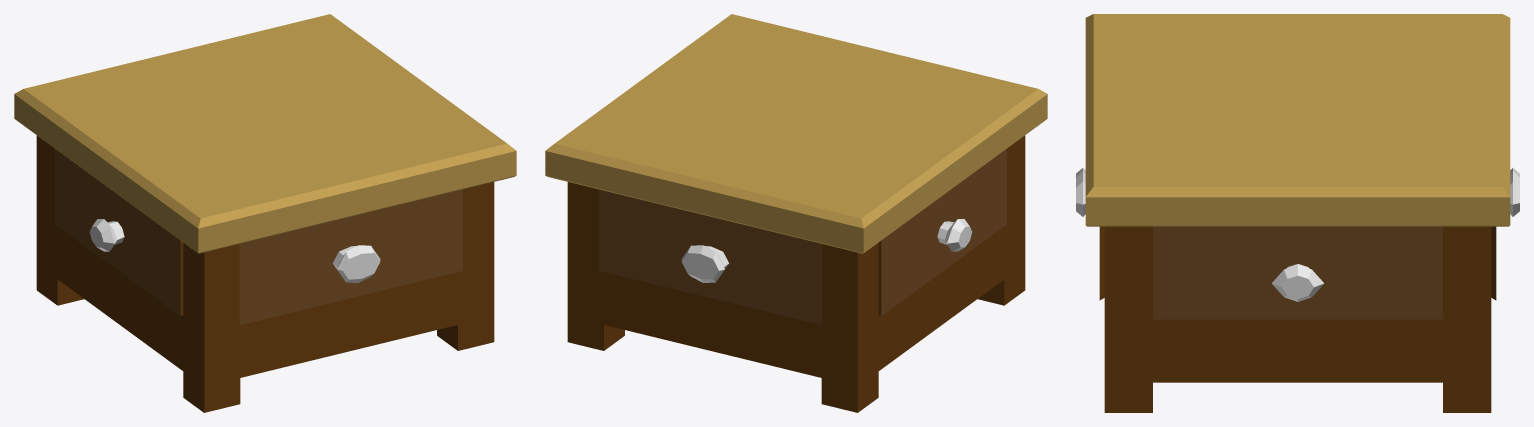
The model's file is GO_CounterTop.fbx.
3 views of the same model, side by side, from view 1: azimuth 30°, elevation 25°; view 2: azimuth 150°, elevation 25°; view 3: azimuth 270°, elevation 25° (orthographic). The views are drawn at different scales.
Parts seen in each view (by area): view 1: GO_CounterTop; view 2: GO_CounterTop; view 3: GO_CounterTop.
Part boxes in pixels (x1,y1,x2,y2): GO_CounterTop: (14, 14, 516, 412); GO_CounterTop: (545, 14, 1047, 412); GO_CounterTop: (1076, 14, 1519, 412).
Bounding box in the file's own units: 106 × 60 × 105.
